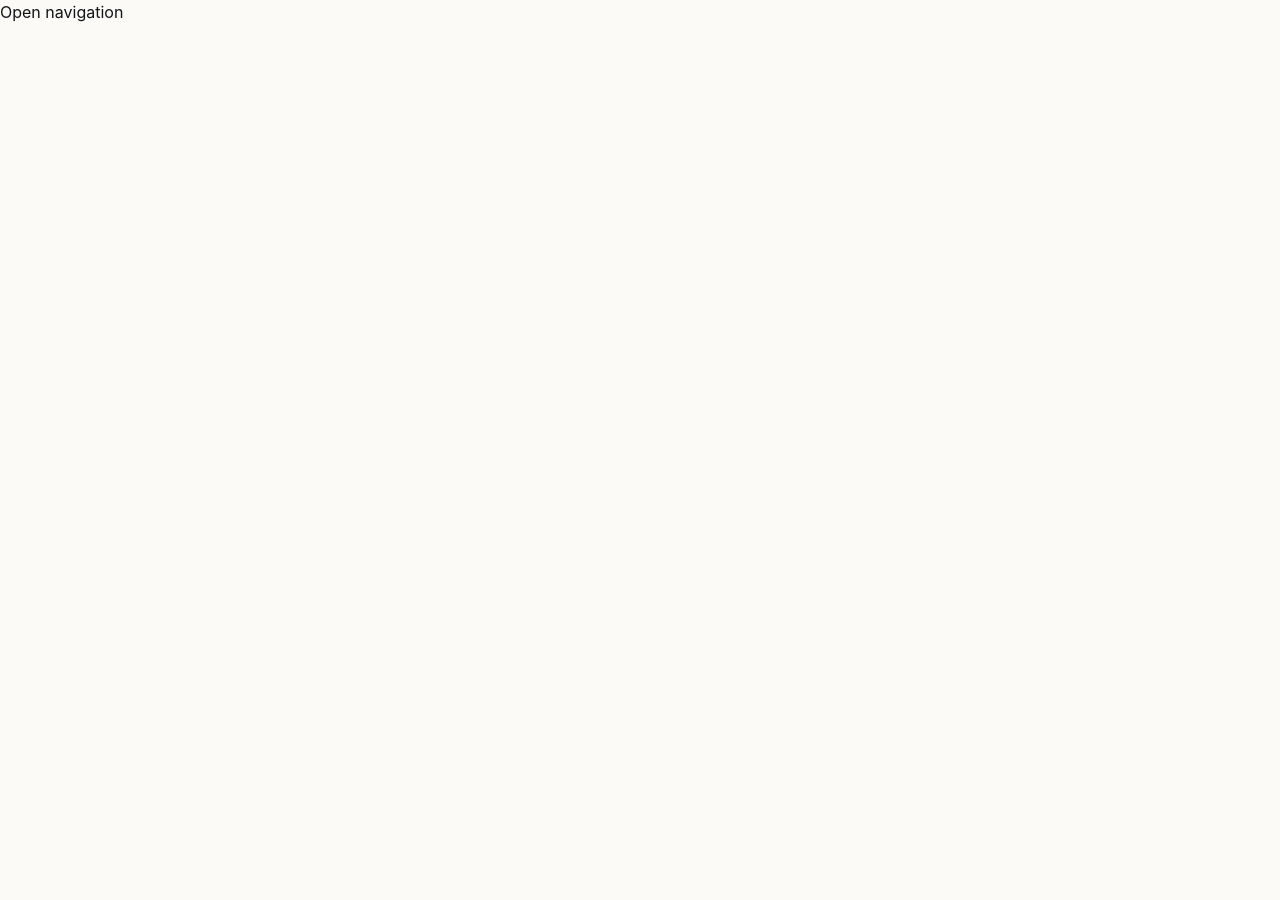
Drawer keyboard/focus behavior › opens from the trigger and exposes the panel as a dialog with a title
Click the button "Open navigation" at (62, 12), box [0,0,123,24]
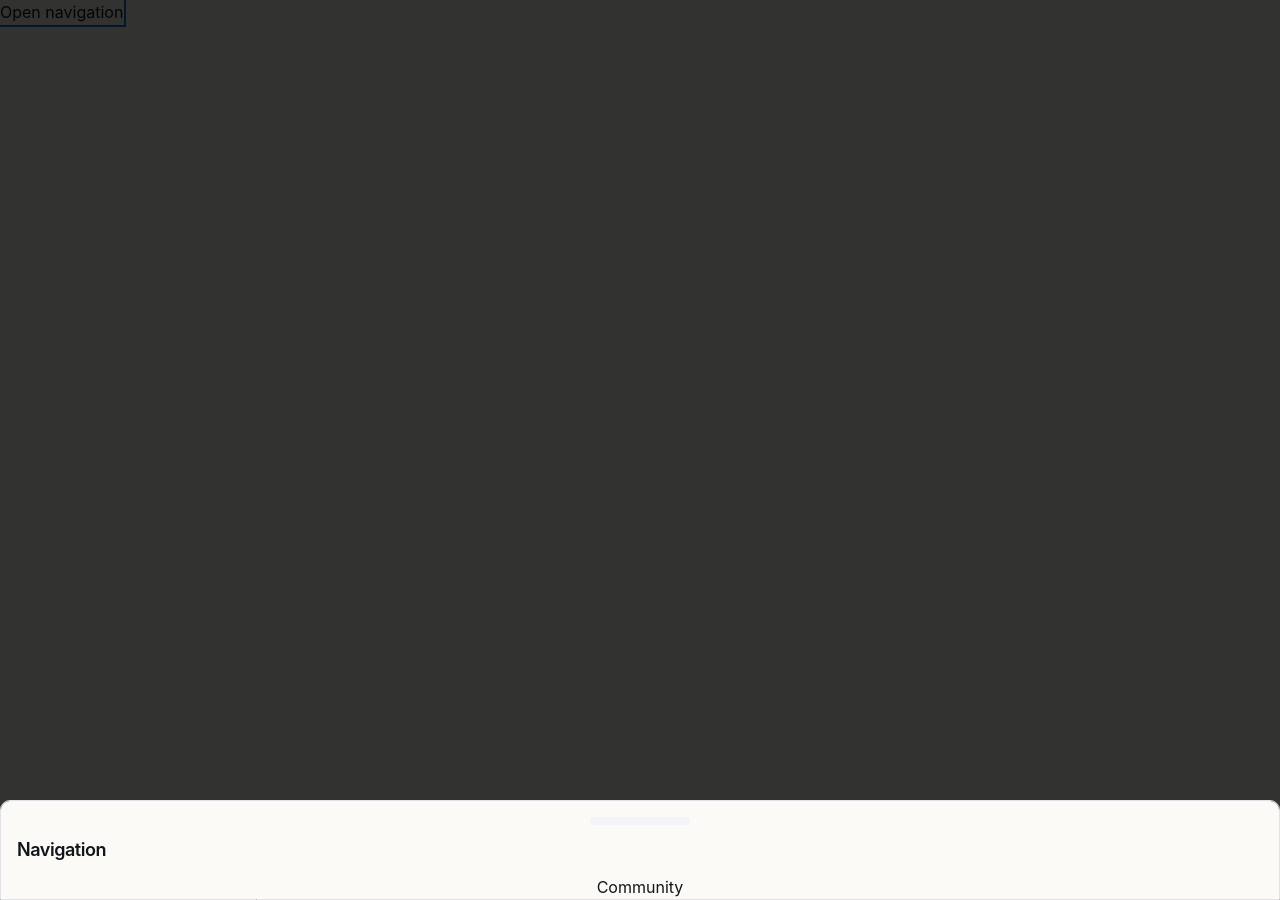
Expected: the dialog "Navigation" is shown, [0,800,1279,899]
Expected: the button "Community" is shown, [1,875,1279,899]
